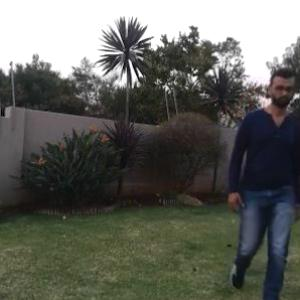follow: (242, 85, 299, 289)
